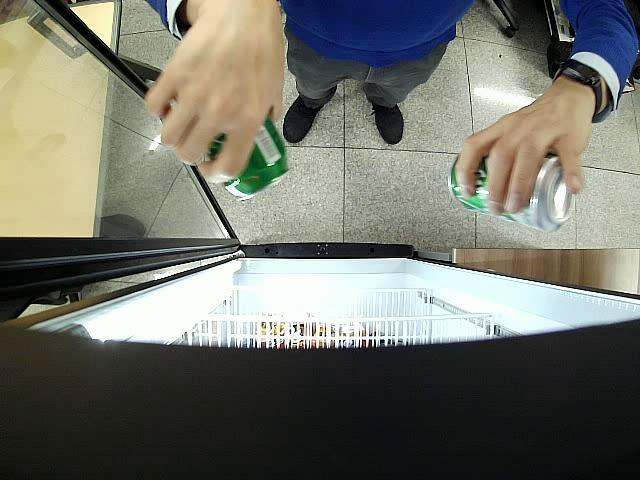12_chilsungCider: (448, 150, 575, 233), (206, 114, 288, 200)
